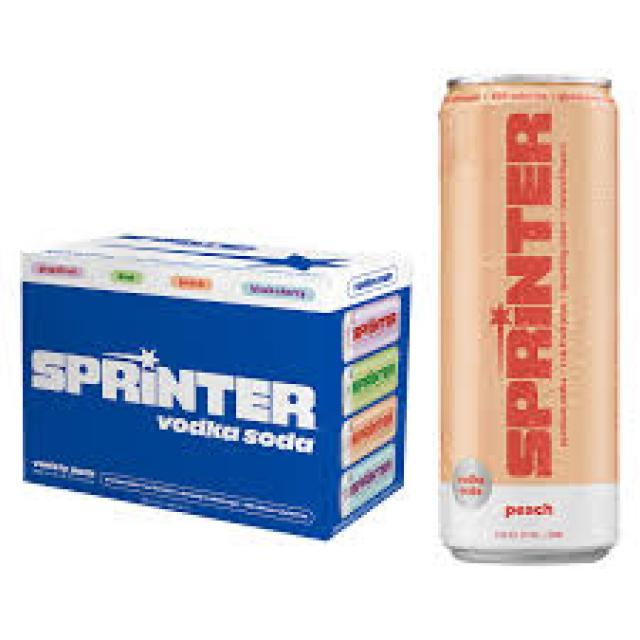Cans: (424, 66, 640, 574)
